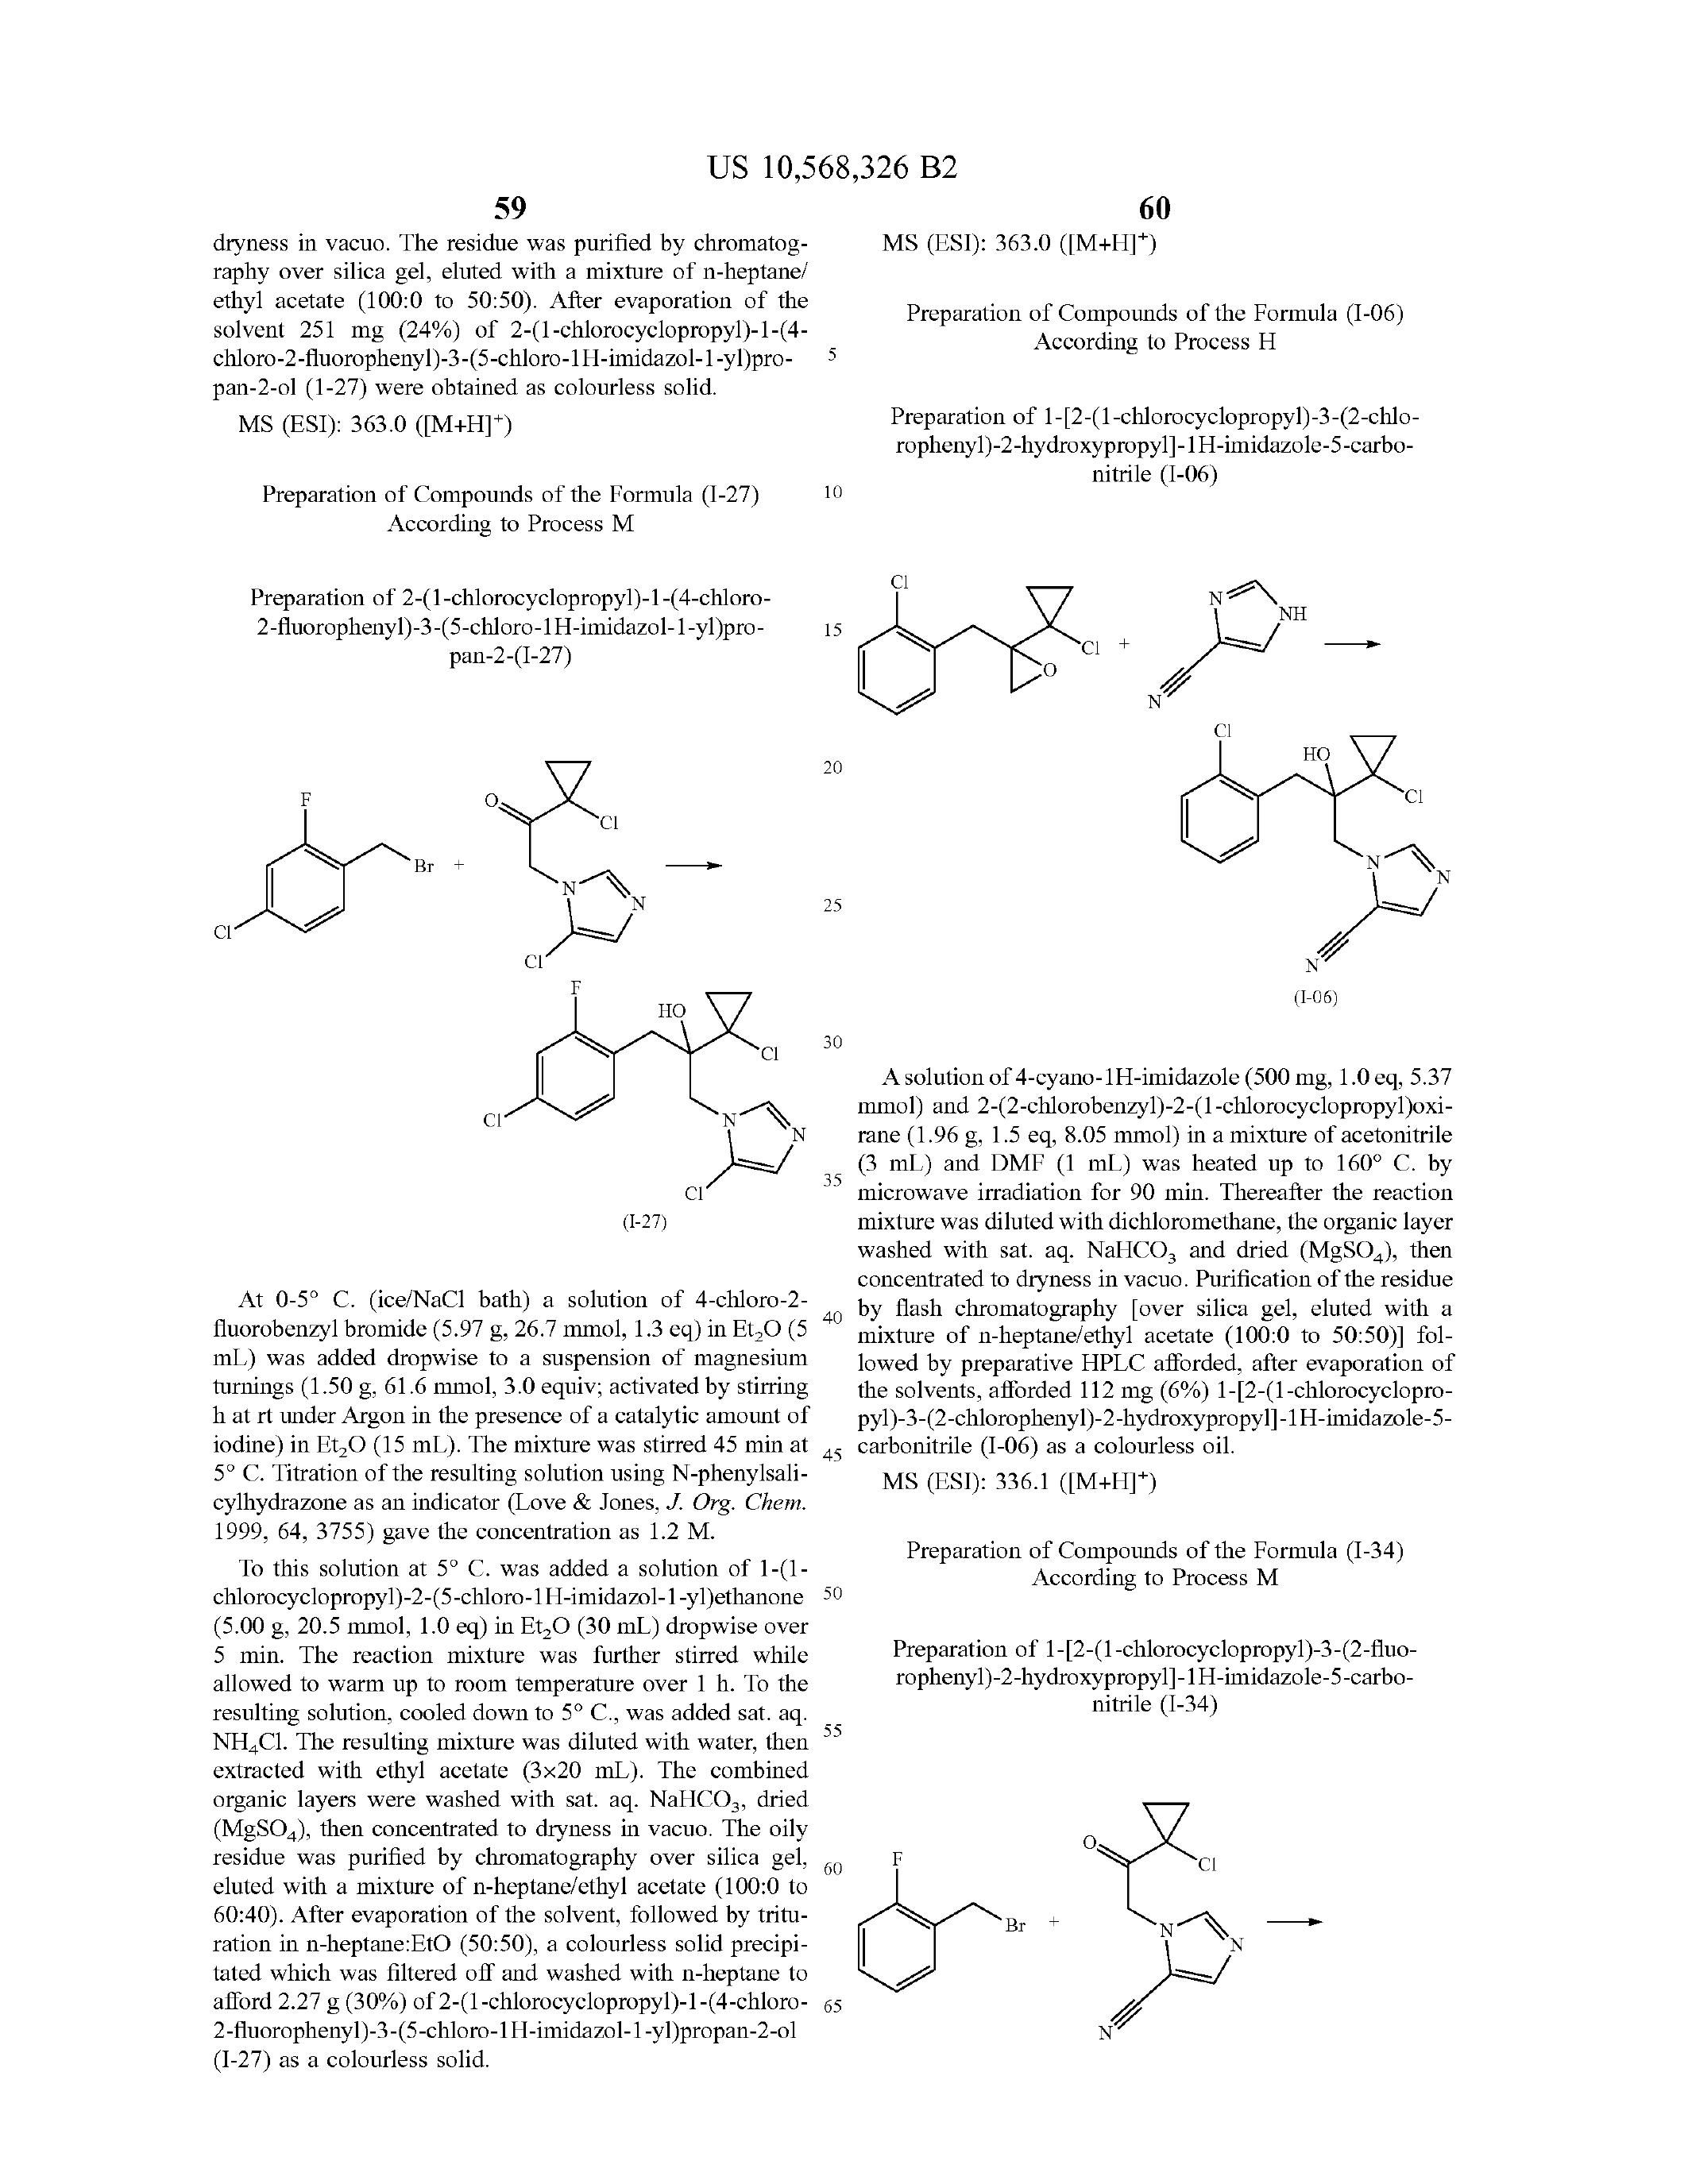reactions: (149, 741, 821, 1250), (839, 502, 1466, 1002), (840, 1794, 1367, 2087)
